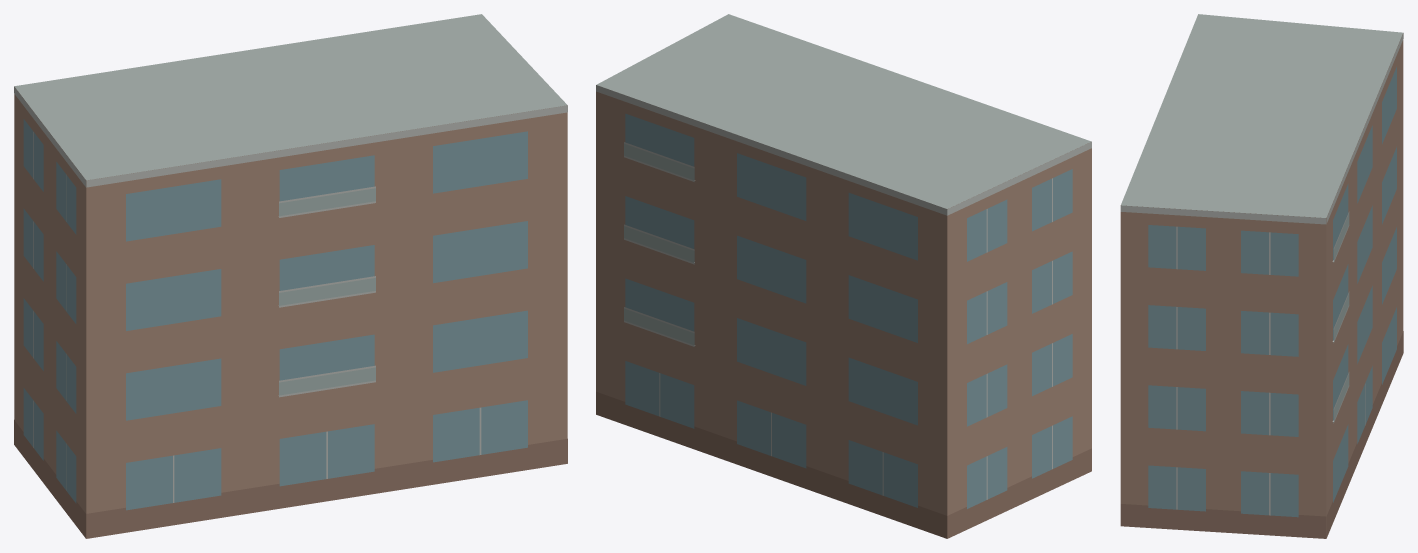
File: survey-upis-32525746.glb
The picture shows the model from 3 angles, left to right: view 1: azimuth 30°, elevation 25°; view 2: azimuth 150°, elevation 25°; view 3: azimuth 270°, elevation 25°; orthographic projection. The views are drawn at different scales.
Visible parts, largest first — view 1: survey-upis-32525746.tmp; view 2: survey-upis-32525746.tmp; view 3: survey-upis-32525746.tmp.
Part boxes in pixels (x1,y1,x2,y2): survey-upis-32525746.tmp: (14,14,567,538); survey-upis-32525746.tmp: (596,14,1091,538); survey-upis-32525746.tmp: (1120,14,1403,538).
Bounding box in the file's own units: 16.66 × 12.2 × 9.76.
